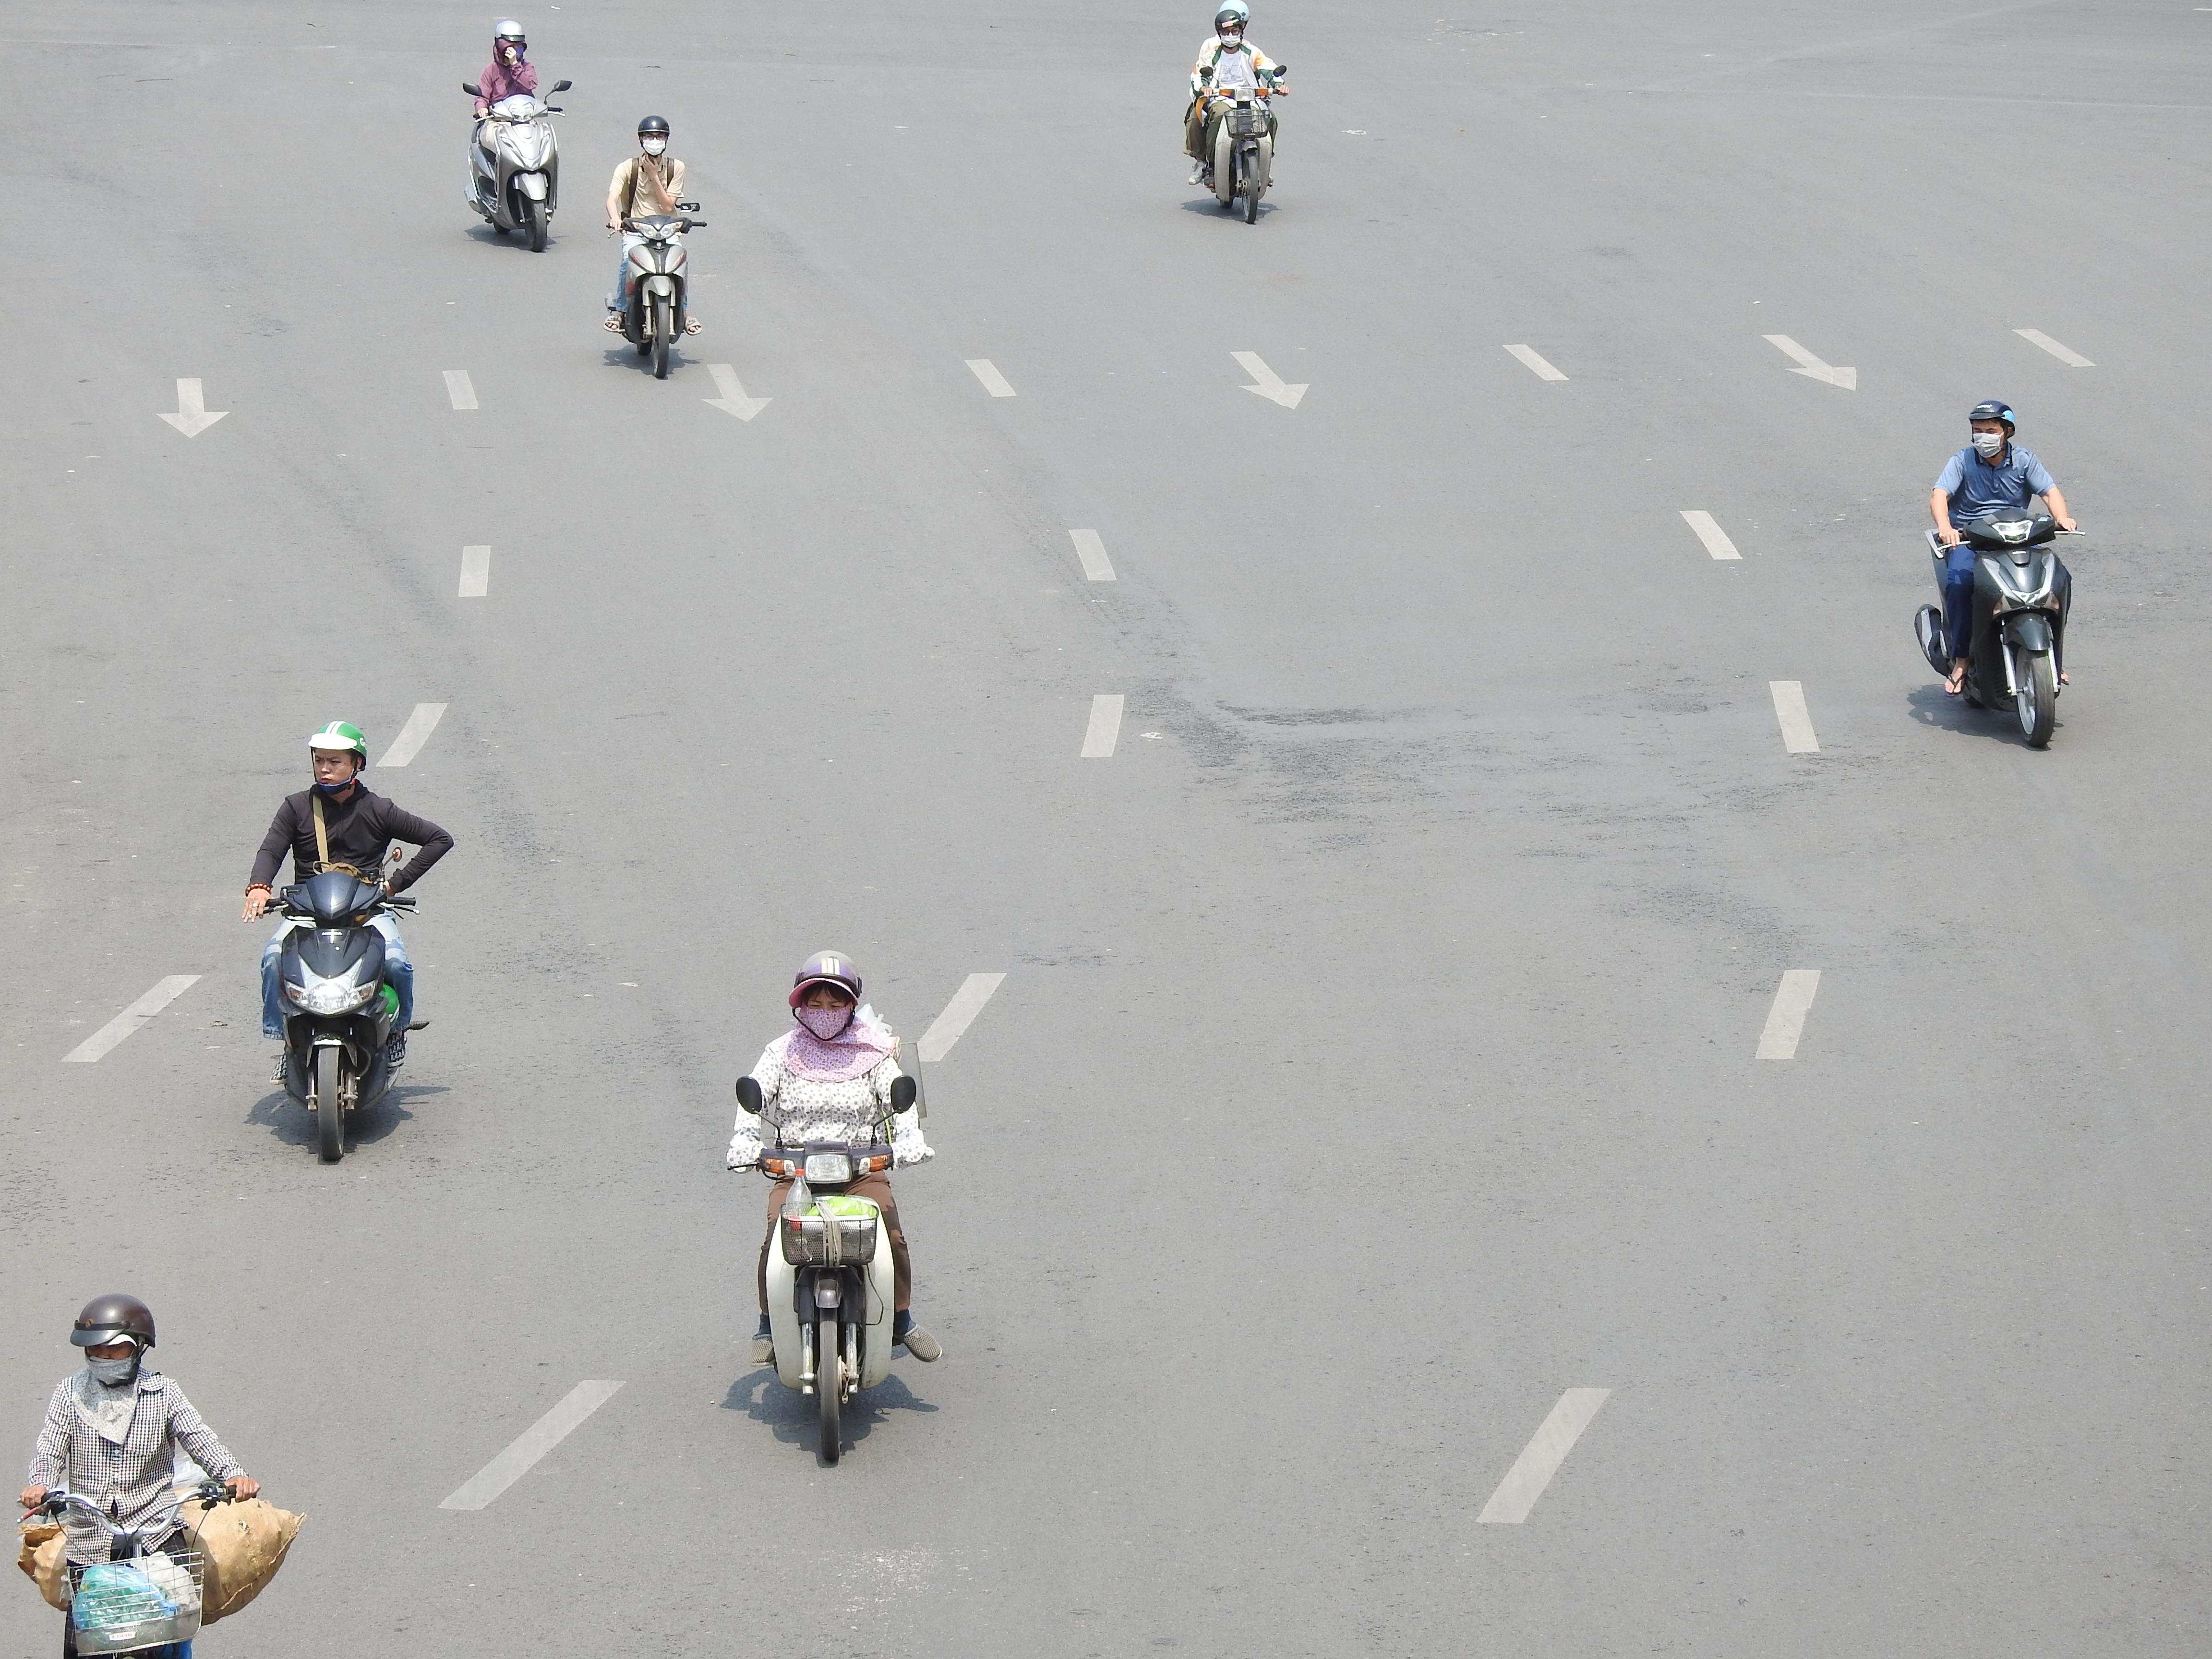motorbike: (730, 950, 935, 1467), (17, 1291, 301, 1659), (246, 720, 449, 1166), (1918, 397, 2080, 751), (604, 115, 702, 382), (463, 19, 568, 253), (1186, 2, 1285, 223)
